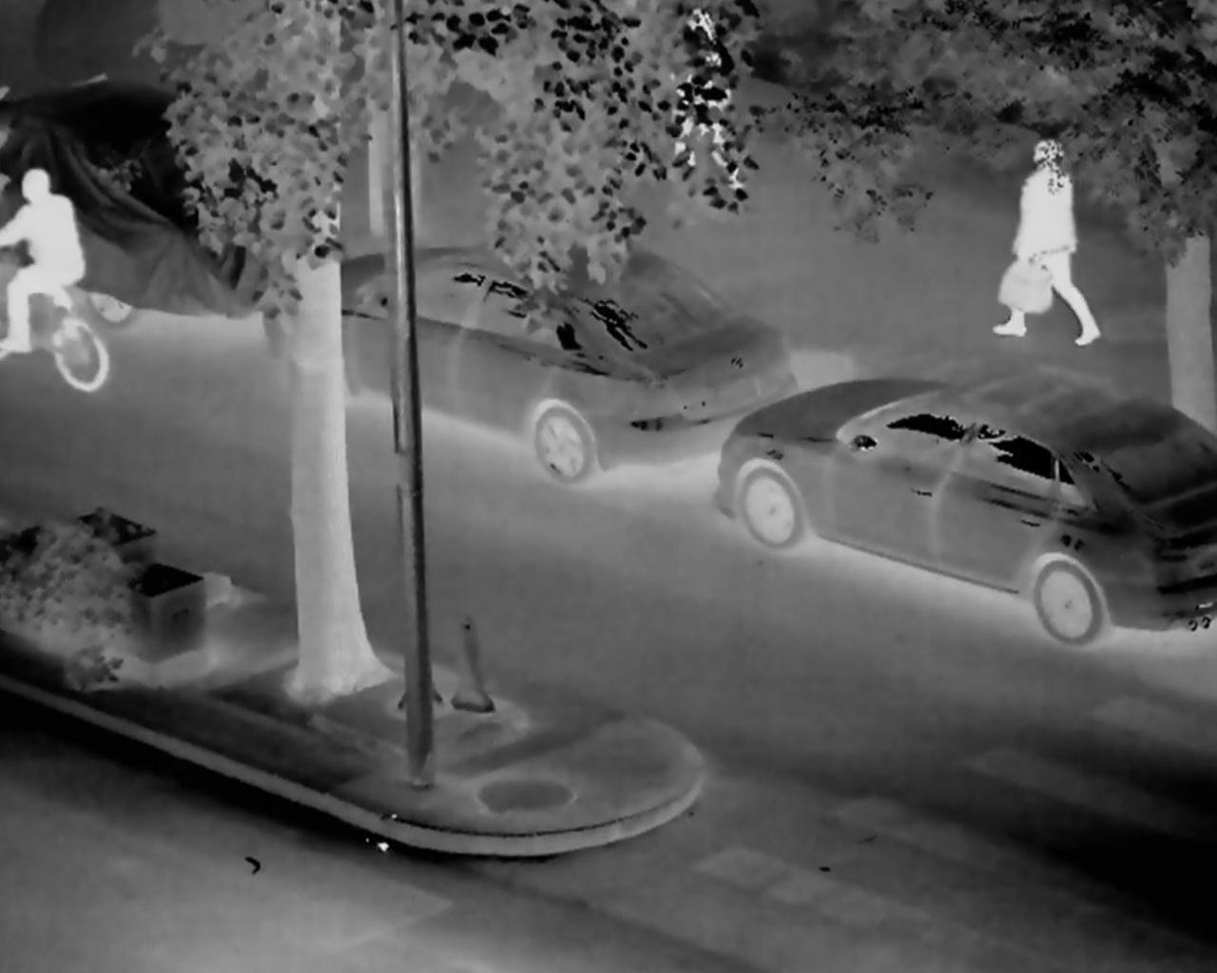person: (995, 130, 1118, 349), (658, 7, 739, 177)
